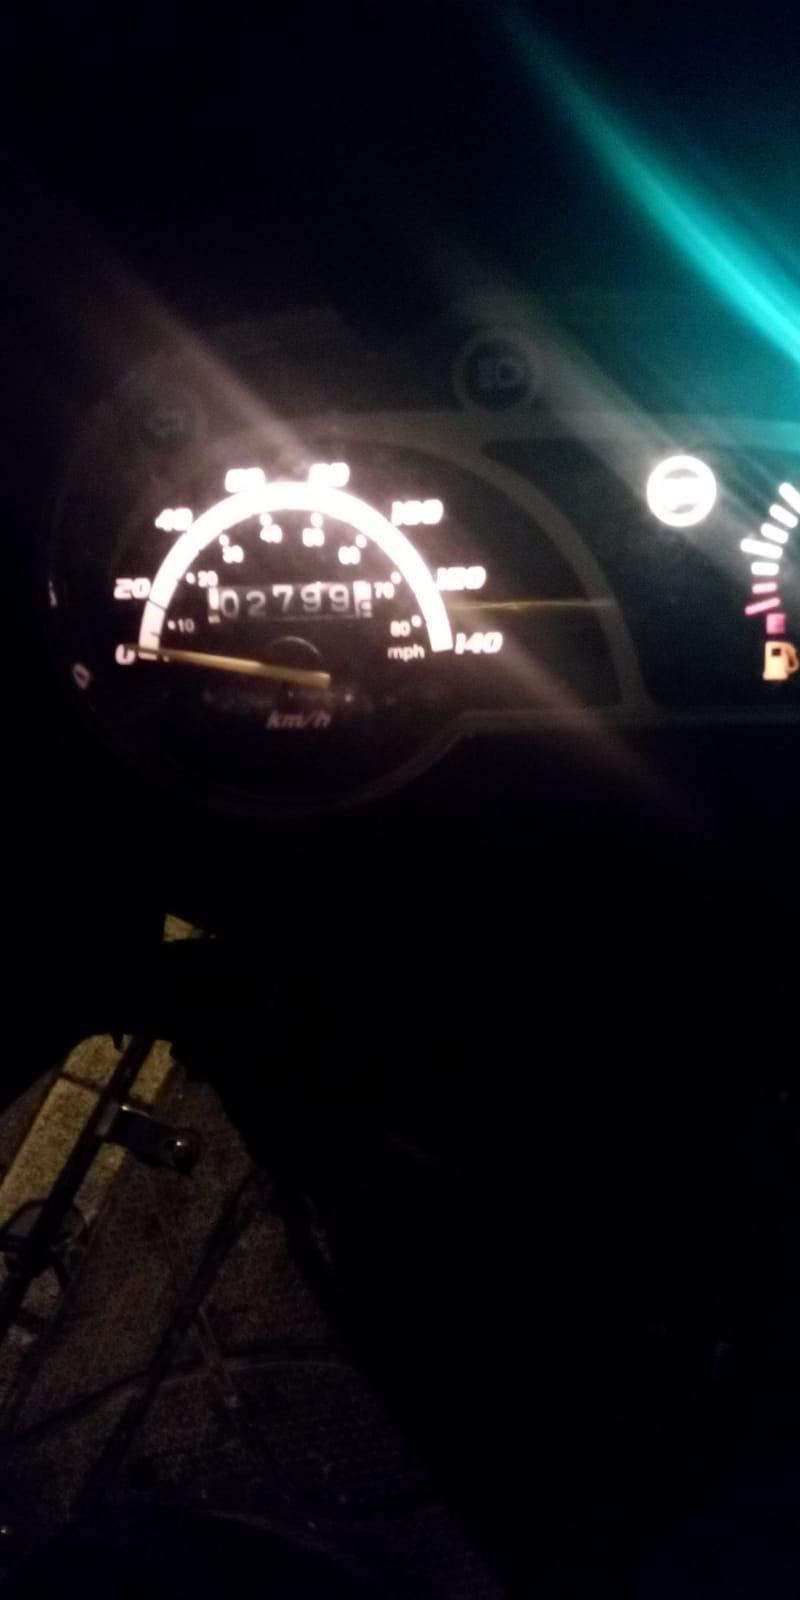0: (219, 587, 240, 619)
2: (245, 587, 268, 618)
7: (272, 581, 293, 615), (373, 581, 381, 599)
8: (357, 595, 376, 624)
9: (299, 585, 322, 615), (328, 582, 349, 614)
odometer: (204, 580, 383, 628)
